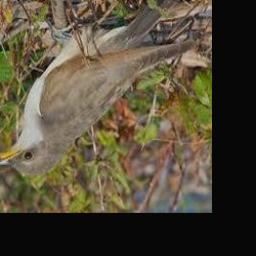Cuckoo: (0, 0, 209, 175)
